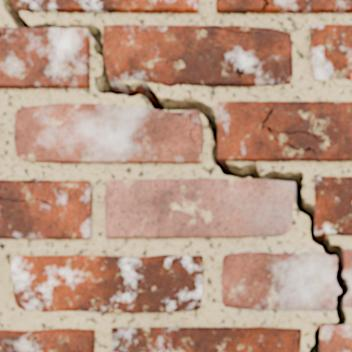brick: (103, 25, 291, 85), (105, 179, 294, 237), (14, 104, 202, 162), (12, 255, 202, 312), (218, 102, 351, 160), (0, 180, 91, 238), (0, 28, 89, 87), (112, 327, 300, 351), (310, 25, 351, 80), (12, 0, 197, 12), (0, 329, 94, 351), (315, 177, 351, 234), (217, 0, 351, 12), (320, 325, 351, 351), (186, 111, 200, 123)
broken_brick: (221, 251, 339, 310), (344, 248, 351, 306)
crack: (2, 0, 350, 351), (177, 112, 202, 144), (213, 25, 260, 34), (259, 0, 269, 10), (22, 180, 41, 184), (160, 345, 167, 351), (120, 345, 125, 351), (0, 32, 5, 37)
